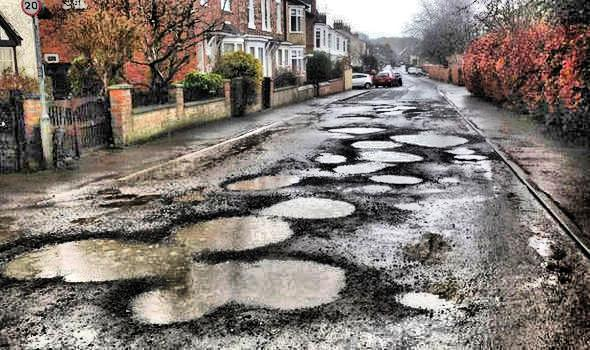pothole: (4, 226, 349, 328), (255, 193, 358, 222), (222, 170, 305, 194), (390, 286, 457, 314), (392, 131, 470, 149), (98, 191, 160, 212), (369, 170, 426, 189), (323, 122, 388, 138), (168, 182, 207, 208), (354, 151, 426, 165), (332, 162, 383, 179), (445, 146, 490, 164), (308, 150, 349, 168), (350, 138, 394, 150)
